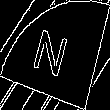N_S: (33, 24, 77, 86)
